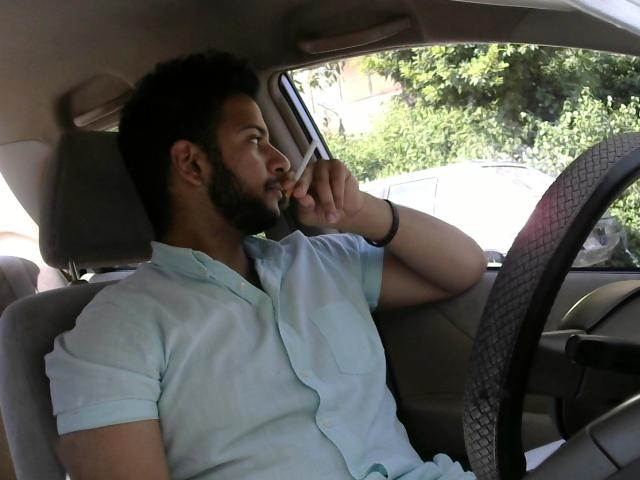Smoking: (286, 139, 319, 199)
